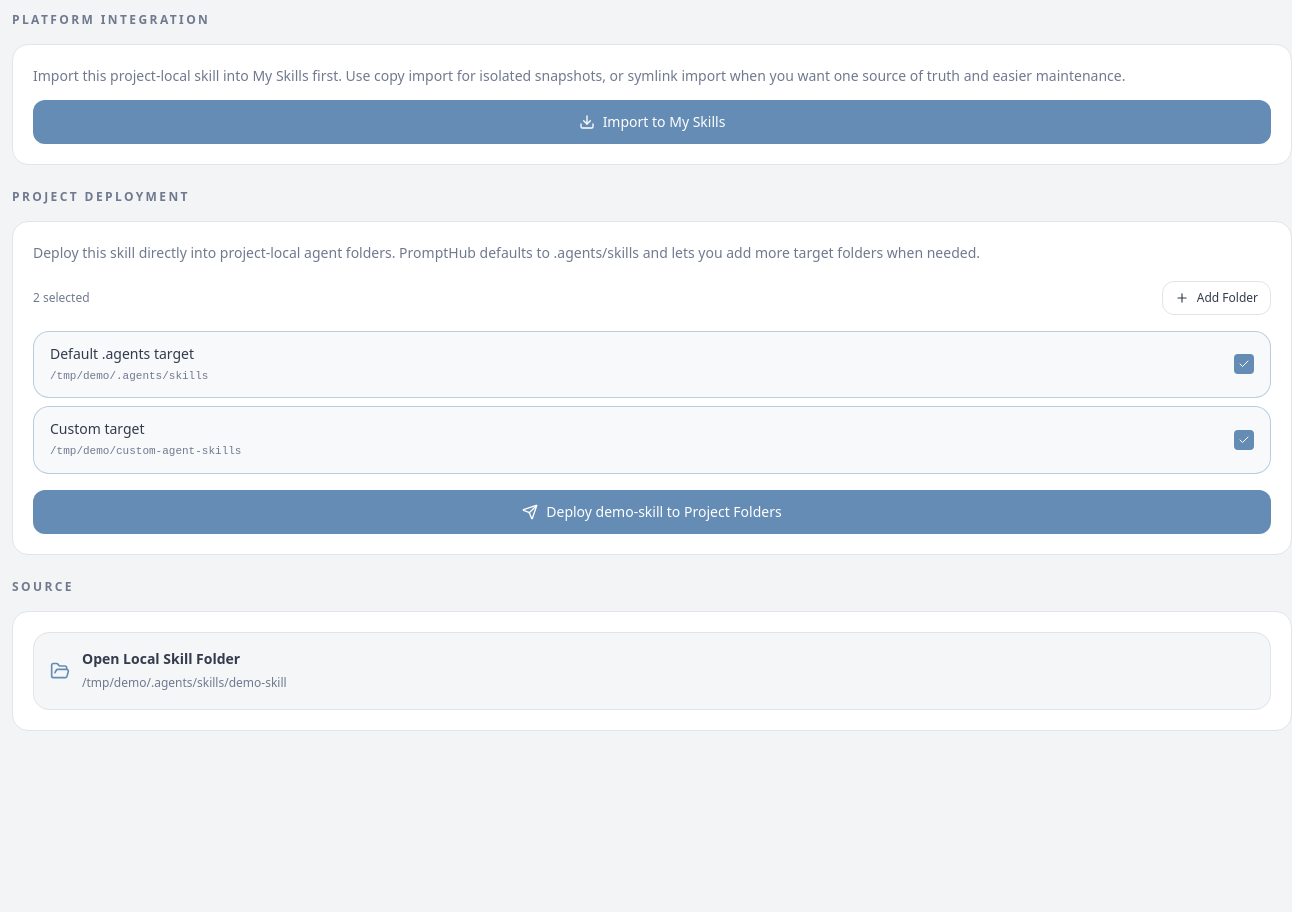
Test: ProjectSkillPreviewSidebar i18n › allows every project deployment target to be deselected
Check: the text "2 selected" is shown, box [33,290,90,306]
Check: the button "Deploy demo-skill to Project Folders" is enabled, box [33,490,1271,534]
Step 1. Click the button "Default .agents target" → coordinates (122, 353), box [33,330,1271,398]
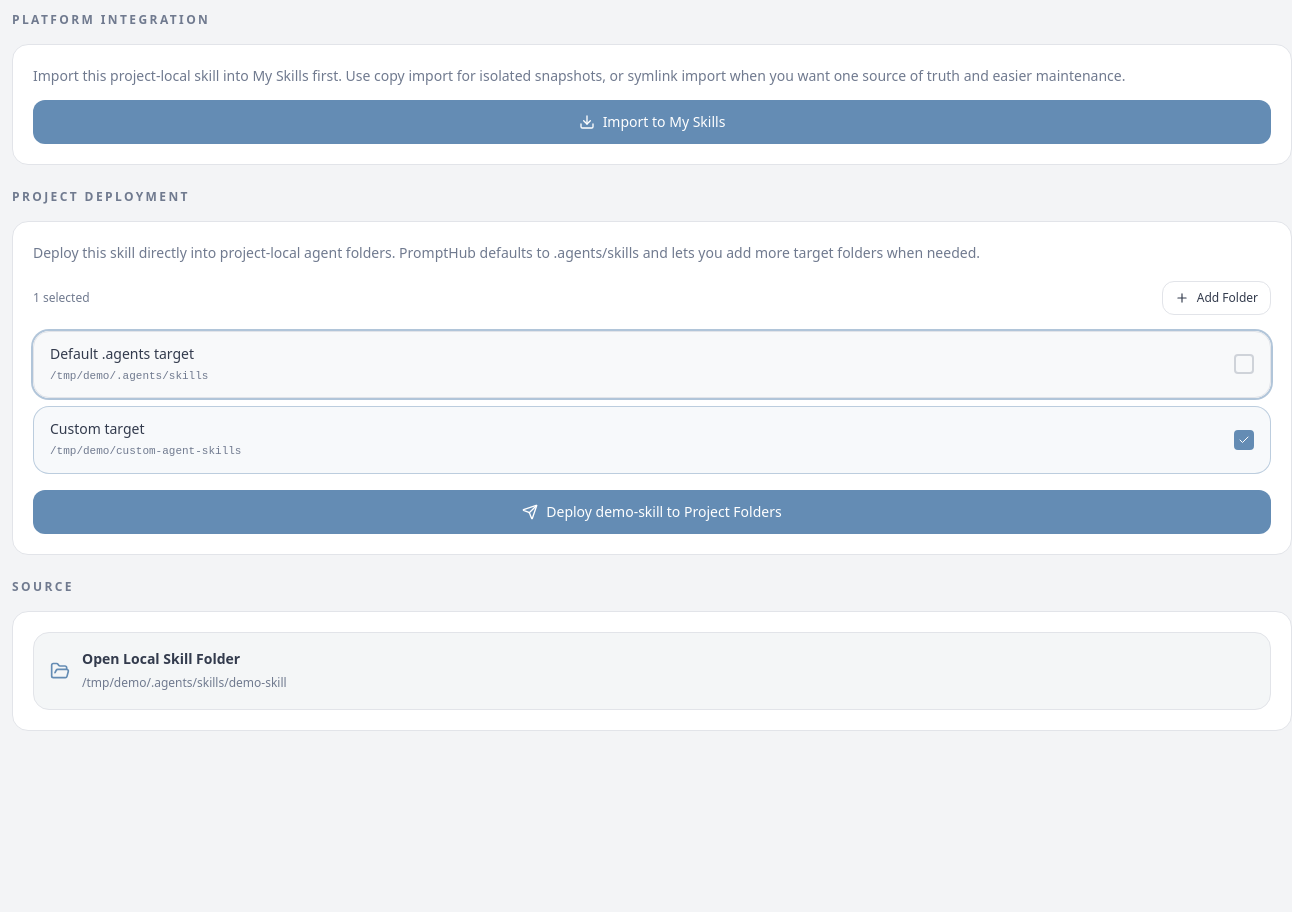
Check: the text "1 selected" is shown, box [33,290,90,306]
Step 2. Click the button "Custom target" → coordinates (97, 429), box [33,406,1271,474]
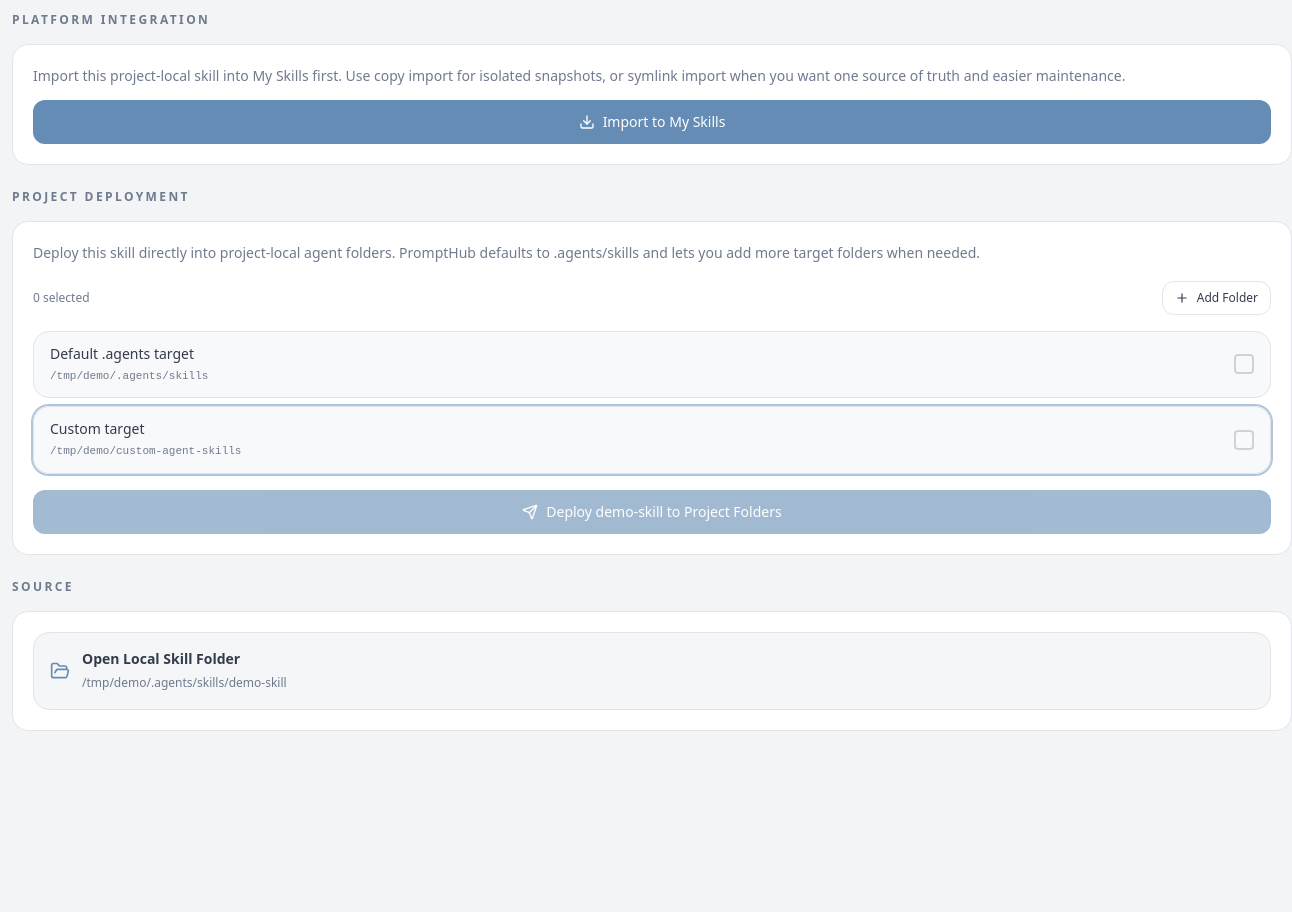
Check: the text "0 selected" is shown, box [33,290,90,306]
Check: the button "Deploy demo-skill to Project Folders" is disabled, box [33,490,1271,534]
